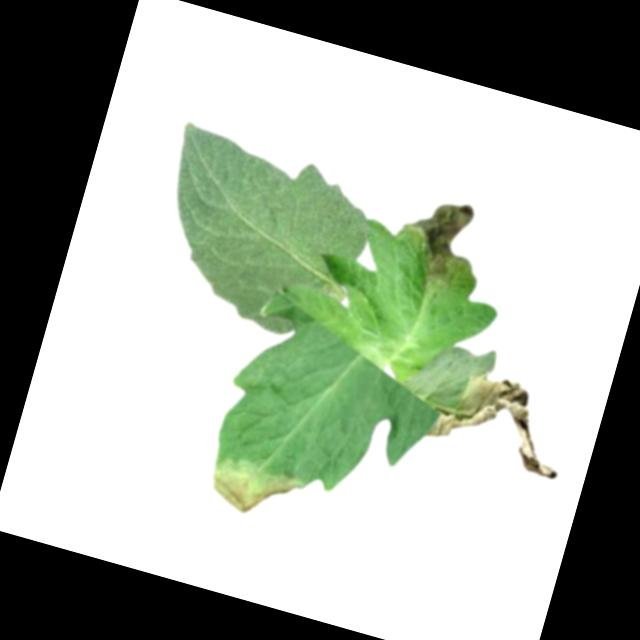Late_blight: (420, 359, 580, 480), (383, 187, 487, 300), (198, 446, 306, 526)
